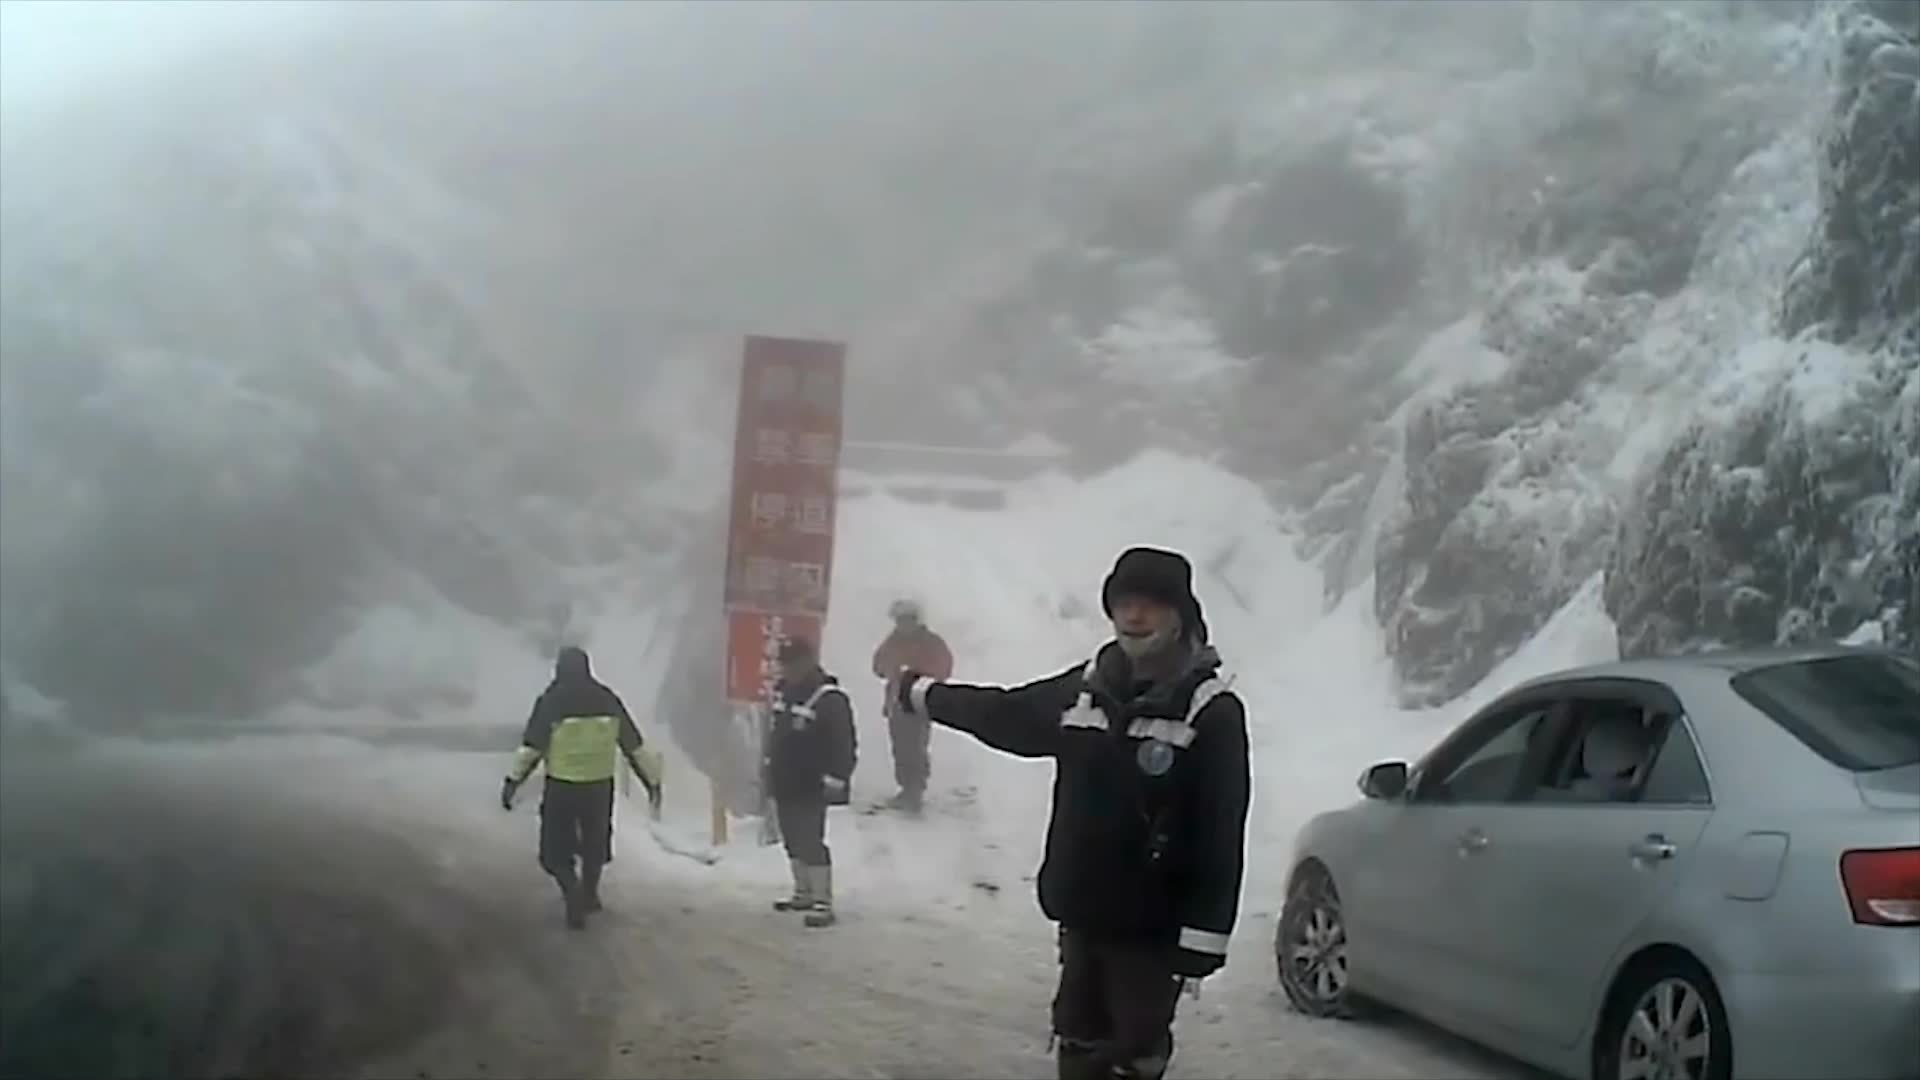pedestrian: (883, 547, 1249, 1080), (512, 648, 665, 923), (767, 633, 857, 926), (870, 595, 956, 819)
vehicle: (1271, 647, 1920, 1080)
